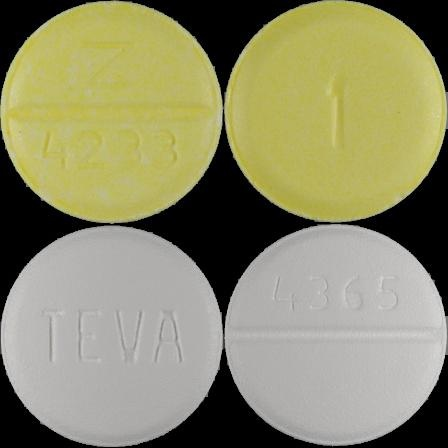0615-4536: (0, 0, 224, 224)
